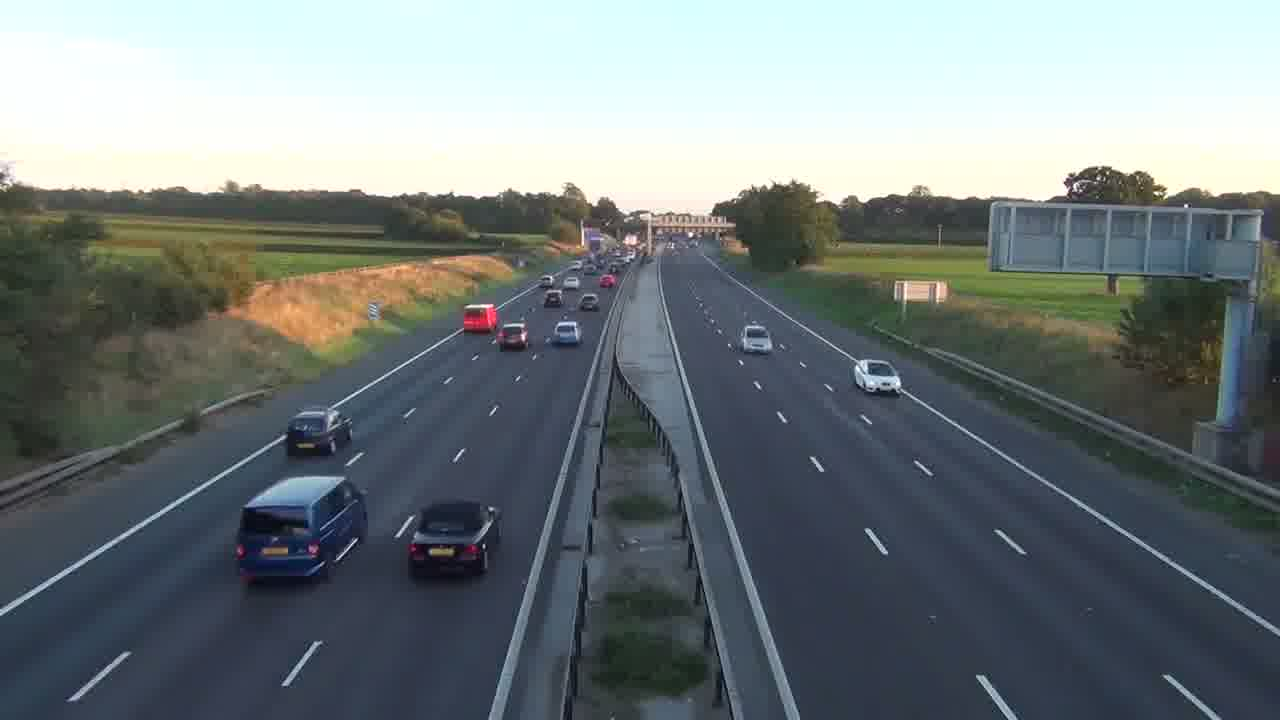bus: (462, 304, 500, 334)
car: (233, 473, 369, 584), (399, 497, 502, 578), (285, 407, 353, 456), (851, 357, 902, 396), (739, 323, 773, 354), (552, 319, 582, 346), (577, 292, 601, 311), (544, 289, 563, 307)
